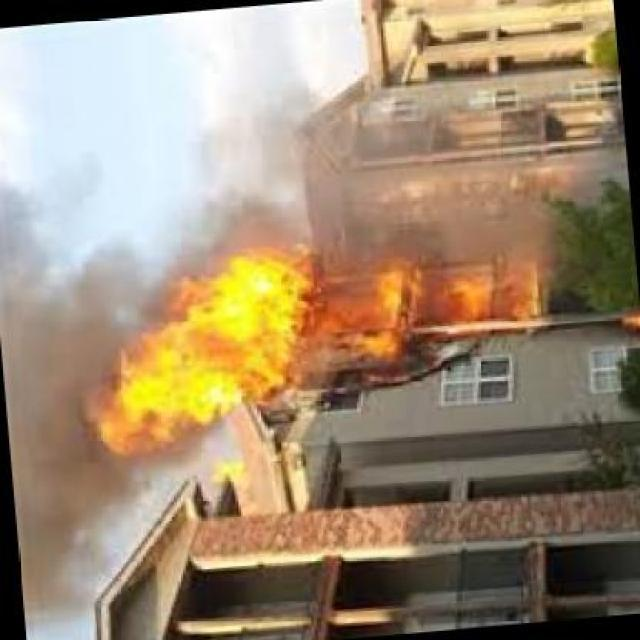Fire: (114, 241, 302, 437), (323, 256, 573, 366)
Smoke: (215, 69, 532, 243), (0, 179, 112, 616)
